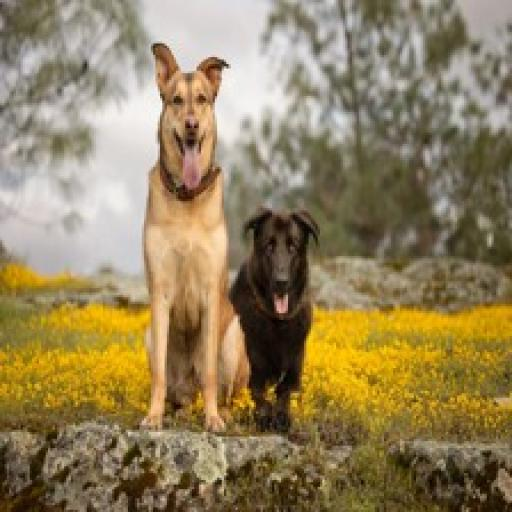dog: (141, 34, 248, 433), (227, 206, 327, 429)
